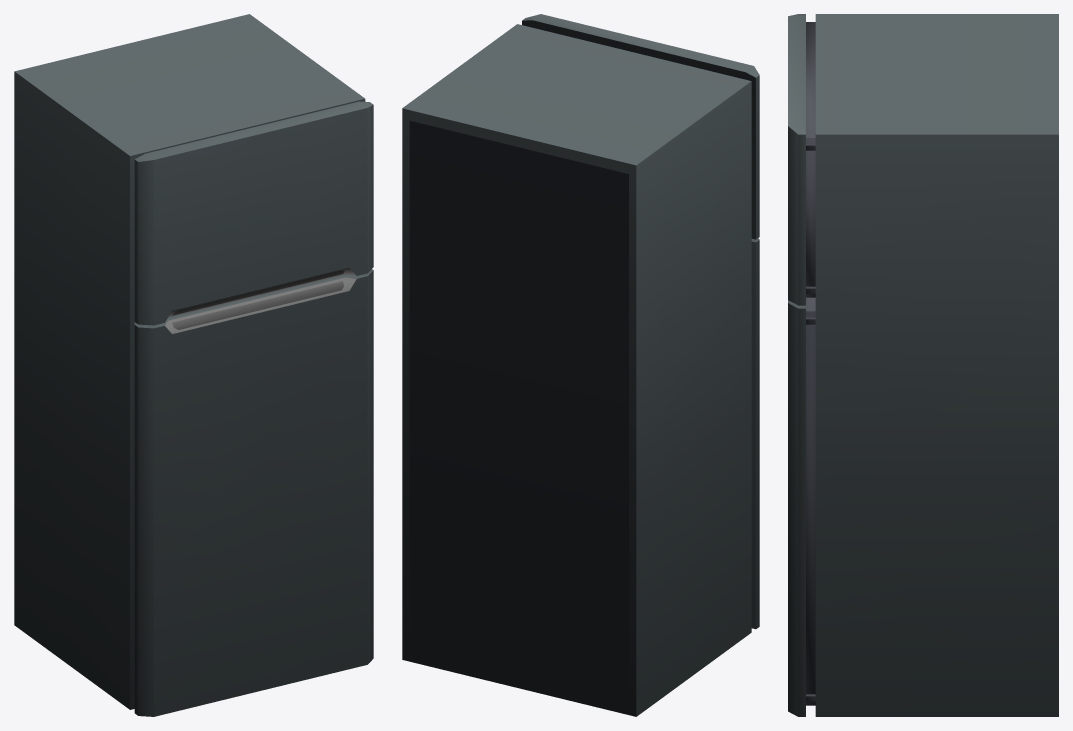
Rendered from TSP_Fridge_01A.fbx.
3 views of the same model, side by side, from view 1: azimuth 30°, elevation 25°; view 2: azimuth 150°, elevation 25°; view 3: azimuth 270°, elevation 25° (orthographic). The views are drawn at different scales.
Parts seen in each view (by area): view 1: TSP_Fridge_01A_Door_Bottom, TSP_Fridge_01A, TSP_Fridge_01A_Door_Top; view 2: TSP_Fridge_01A, TSP_Fridge_01A_Door_Top, TSP_Fridge_01A_Door_Bottom; view 3: TSP_Fridge_01A, TSP_Fridge_01A_Door_Bottom, TSP_Fridge_01A_Door_Top.
Part boxes in pixels (x1,y1,x2,y2): TSP_Fridge_01A_Door_Bottom: (134, 269, 373, 716); TSP_Fridge_01A: (14, 14, 365, 709); TSP_Fridge_01A_Door_Top: (134, 101, 373, 325); TSP_Fridge_01A: (402, 24, 751, 716); TSP_Fridge_01A_Door_Top: (522, 14, 759, 239); TSP_Fridge_01A_Door_Bottom: (751, 238, 759, 629); TSP_Fridge_01A: (806, 14, 1058, 716); TSP_Fridge_01A_Door_Bottom: (788, 297, 815, 716); TSP_Fridge_01A_Door_Top: (788, 14, 815, 305).
Size of the model in its own units: 1 by 2.26 by 0.9484.
